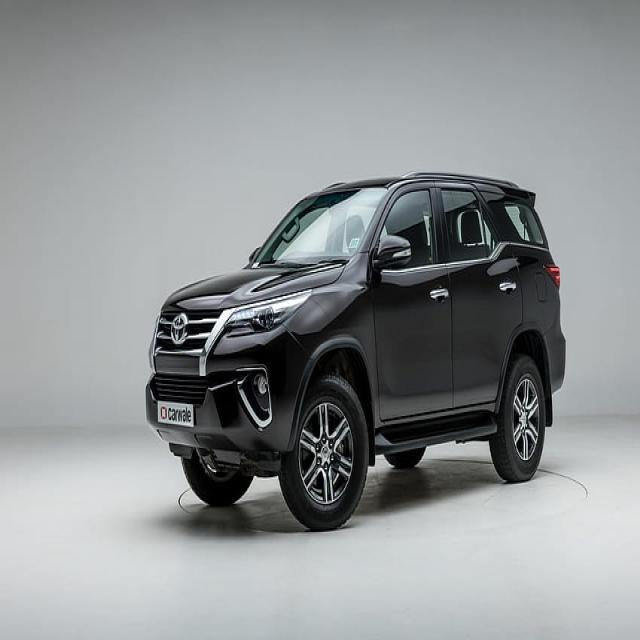light_vehicle: (145, 172, 567, 532)
